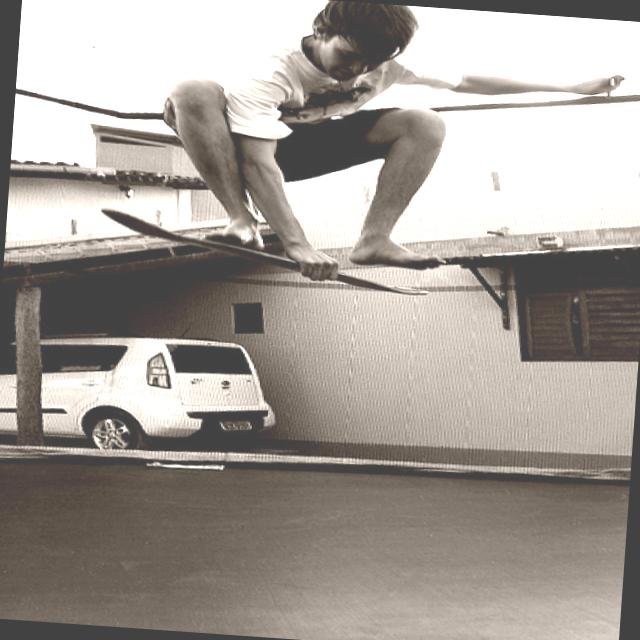Vehicle: (0, 323, 275, 459)
